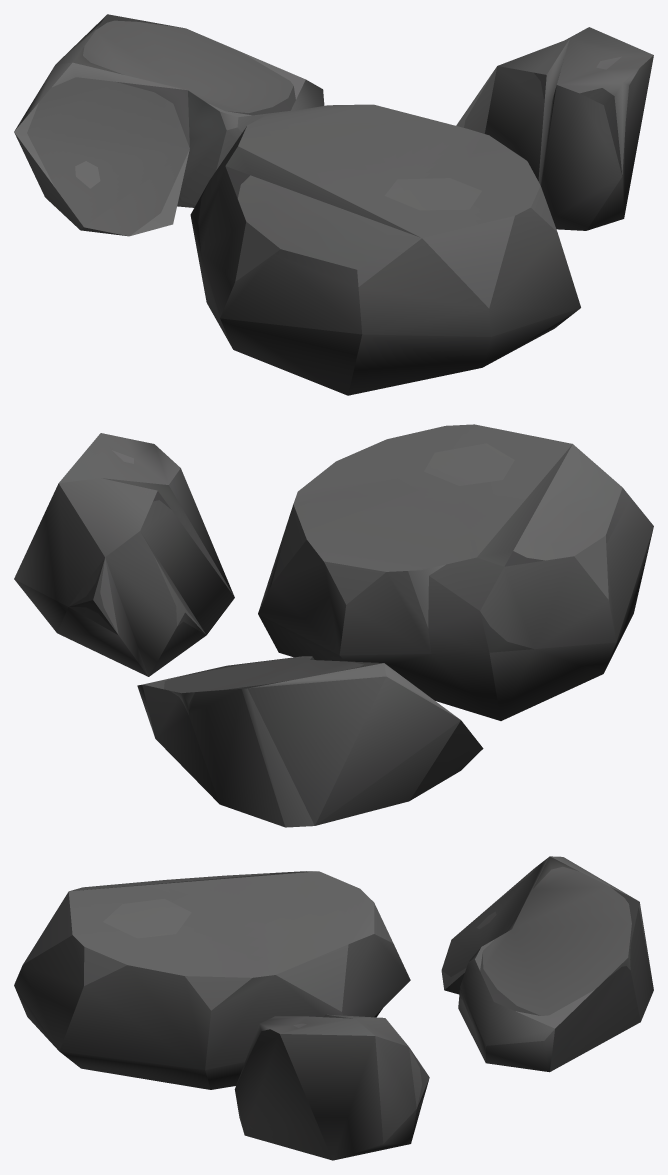
File: TFP_Rocks_01B.gltf
3 renders of one model, top to bottom at view 1: azimuth 30°, elevation 25°; view 2: azimuth 150°, elevation 25°; view 3: azimuth 270°, elevation 25°, orthographic. The views are drawn at different scales.
Parts seen in each view (by area): view 1: TFP_Rocks_01B_LOD0; view 2: TFP_Rocks_01B_LOD0; view 3: TFP_Rocks_01B_LOD0.
Boxes of the visible parts, x1,y1,x2,y2 form: TFP_Rocks_01B_LOD0: [14, 14, 653, 395]; TFP_Rocks_01B_LOD0: [14, 424, 653, 827]; TFP_Rocks_01B_LOD0: [14, 856, 653, 1160].
Size of the model in its own units: 0.6146 by 0.1825 by 0.7213.
1 material, 1 textured.
